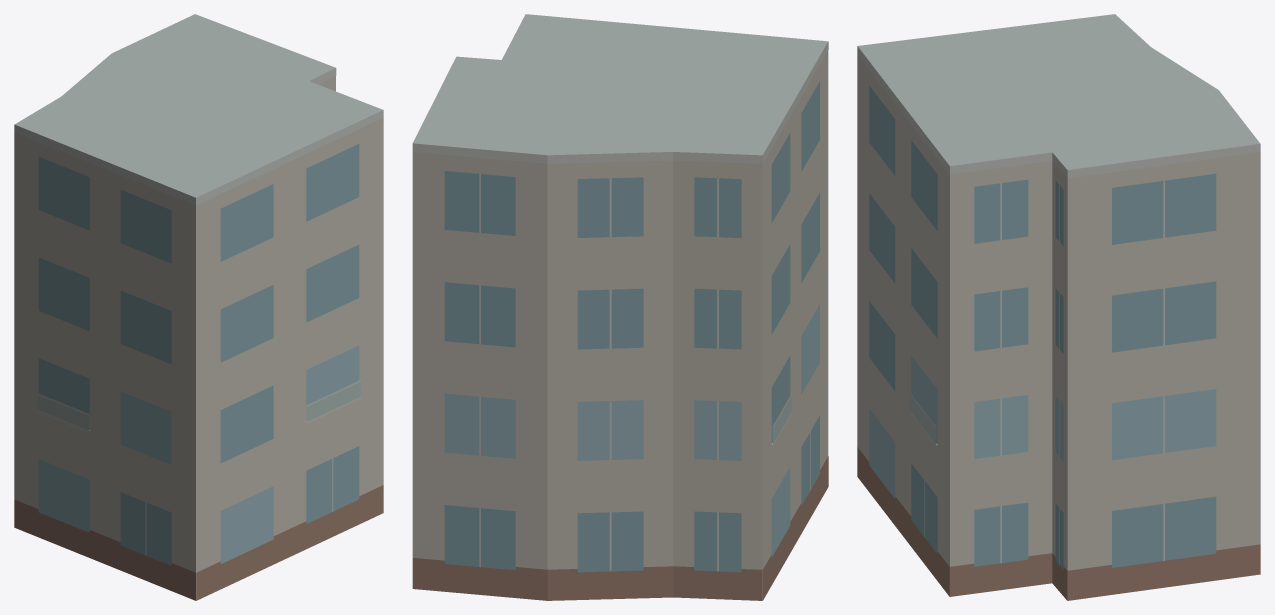
The model's file is survey-upis-32486917.glb.
3 views of the same model, side by side, from view 1: azimuth 30°, elevation 25°; view 2: azimuth 150°, elevation 25°; view 3: azimuth 270°, elevation 25° (orthographic). The views are drawn at different scales.
Parts seen in each view (by area): view 1: survey-upis-32486917.tmp; view 2: survey-upis-32486917.tmp; view 3: survey-upis-32486917.tmp.
Part boxes in pixels (x1=…): survey-upis-32486917.tmp: x1=14, y1=14, x2=383, y2=600; survey-upis-32486917.tmp: x1=412, y1=14, x2=828, y2=600; survey-upis-32486917.tmp: x1=857, y1=14, x2=1260, y2=600.
Size of the model in its own units: 9.88 by 12.7 by 10.78.
